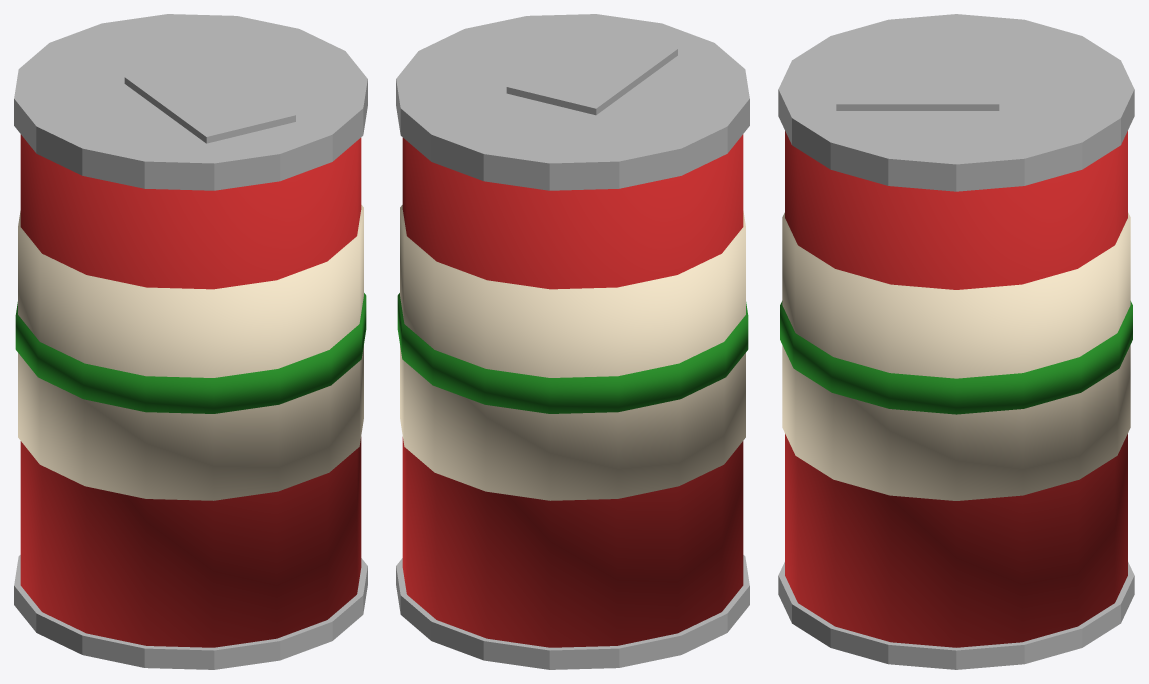
Rendered from Soda_Can.fbx.
3 renders of one model, left to right at view 1: azimuth 30°, elevation 25°; view 2: azimuth 150°, elevation 25°; view 3: azimuth 270°, elevation 25°, orthographic.
Visible parts, largest first — view 1: Can_Body, Can_LabelBand, Can_Top, Can_GreenStripe, Can_Bottom, Can_PullTab; view 2: Can_Body, Can_LabelBand, Can_Top, Can_GreenStripe, Can_Bottom, Can_PullTab; view 3: Can_Body, Can_LabelBand, Can_Top, Can_GreenStripe, Can_Bottom, Can_PullTab.
Boxes of the visible parts, box(x1,y1,x2,y2) form: Can_Body: box(20, 134, 361, 647); Can_LabelBand: box(18, 205, 363, 500); Can_Top: box(14, 14, 367, 190); Can_GreenStripe: box(15, 293, 366, 413); Can_Bottom: box(14, 555, 367, 669); Can_PullTab: box(124, 55, 295, 143); Can_Body: box(402, 134, 743, 647); Can_LabelBand: box(400, 205, 745, 500); Can_Top: box(396, 14, 749, 190); Can_GreenStripe: box(397, 293, 748, 413); Can_Bottom: box(396, 555, 749, 669); Can_PullTab: box(506, 27, 677, 115); Can_Body: box(785, 131, 1127, 647); Can_LabelBand: box(782, 212, 1130, 500); Can_Top: box(778, 14, 1134, 191); Can_GreenStripe: box(780, 301, 1132, 414); Can_Bottom: box(778, 562, 1134, 669); Can_PullTab: box(836, 61, 999, 110).
Bounding box in the file's own units: 83 × 132 × 83.
